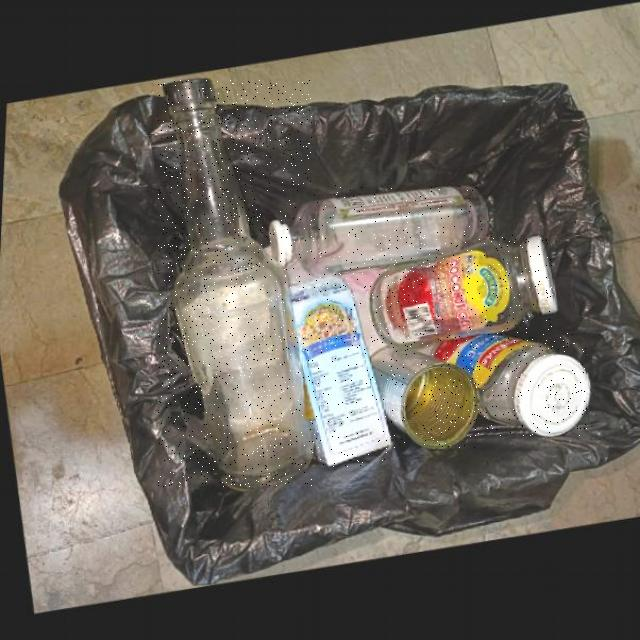glass: (158, 79, 312, 486), (366, 235, 554, 349), (264, 185, 484, 275), (430, 333, 587, 435)
metal: (366, 347, 477, 447)
paper: (285, 273, 390, 467)
